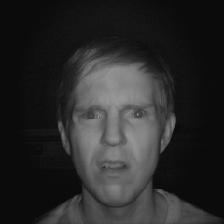sad: (50, 40, 173, 209)
